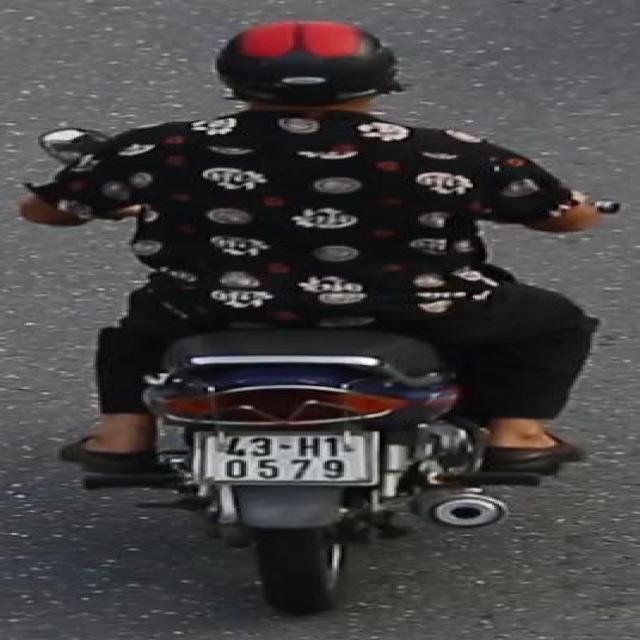LP: (182, 427, 386, 487)
helmet: (206, 18, 414, 128)
